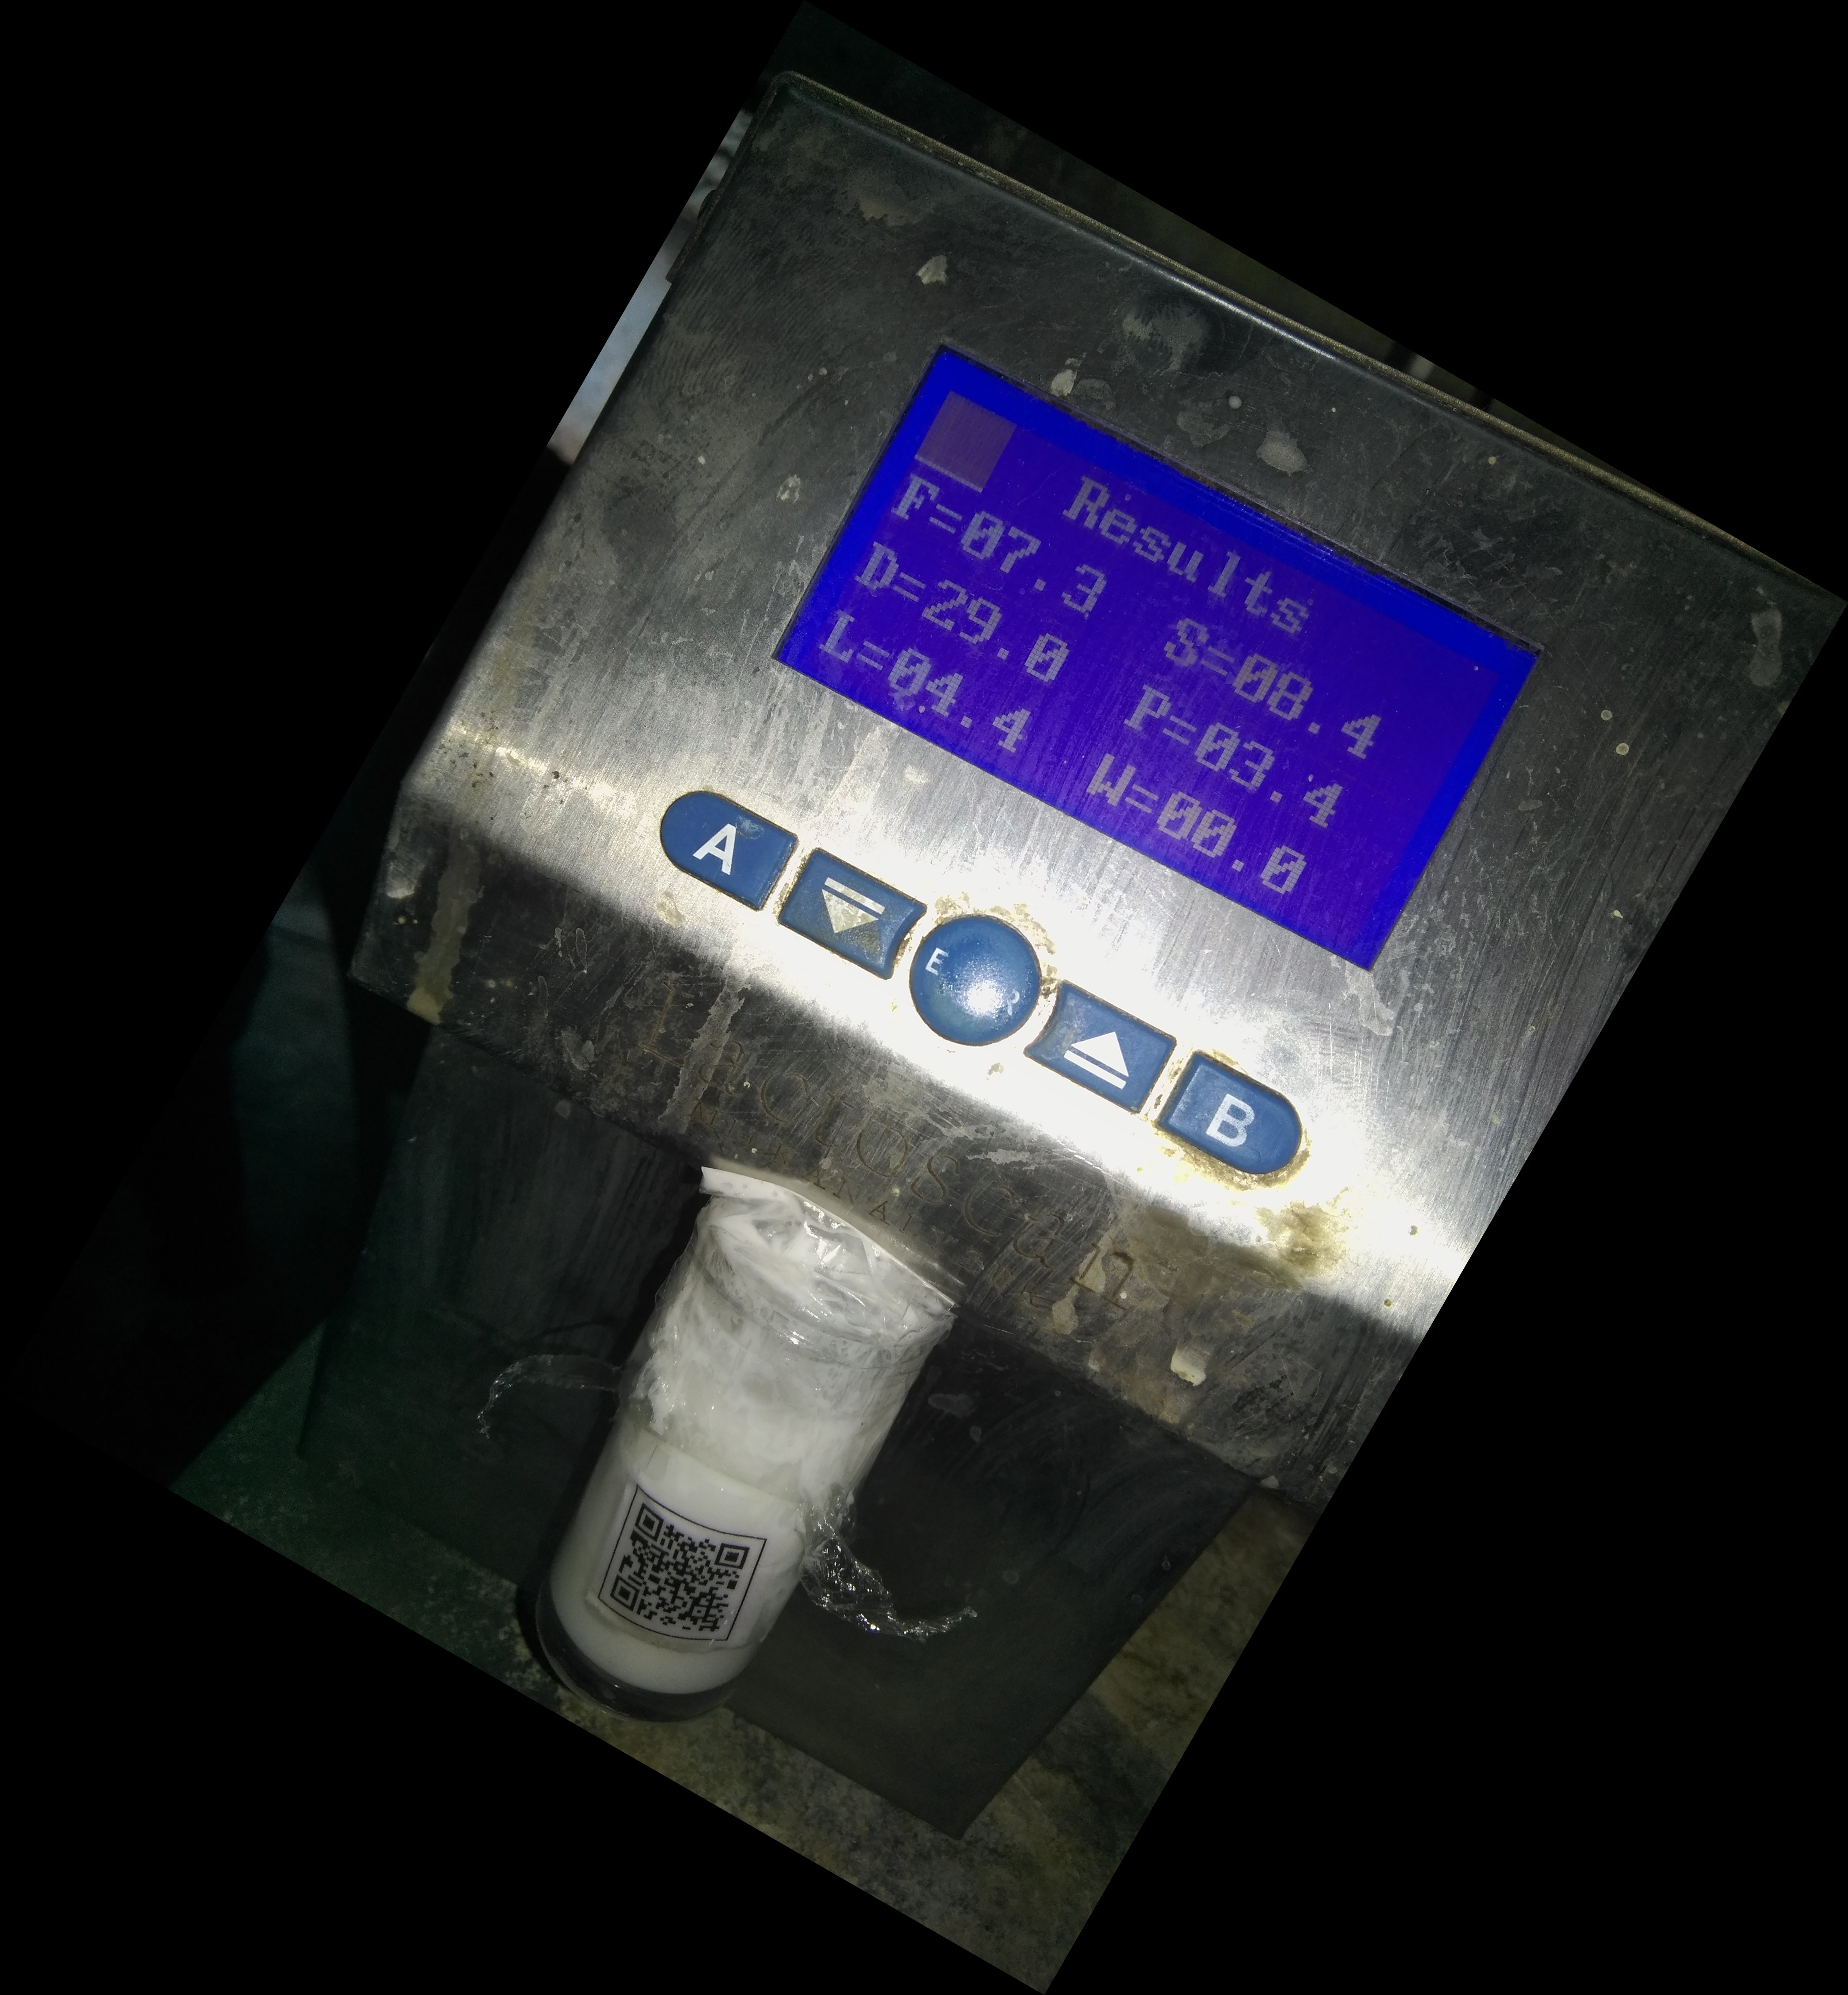lcd: (754, 315, 1585, 1010)
qr: (581, 1477, 784, 1680)
